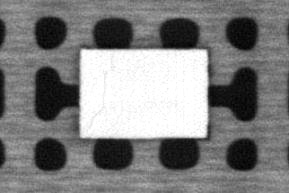DIE_CRACK: (86, 72, 109, 131)
